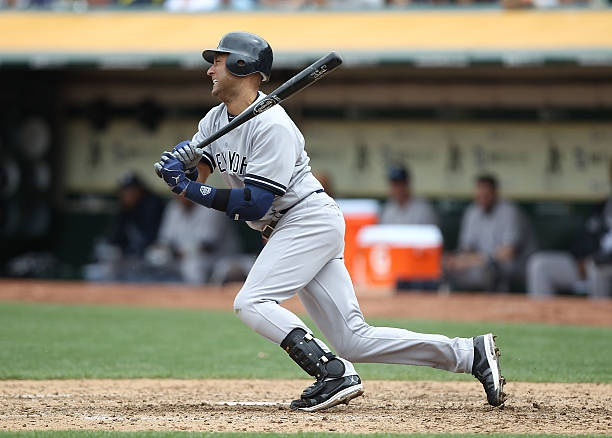bita: (183, 54, 340, 149)
